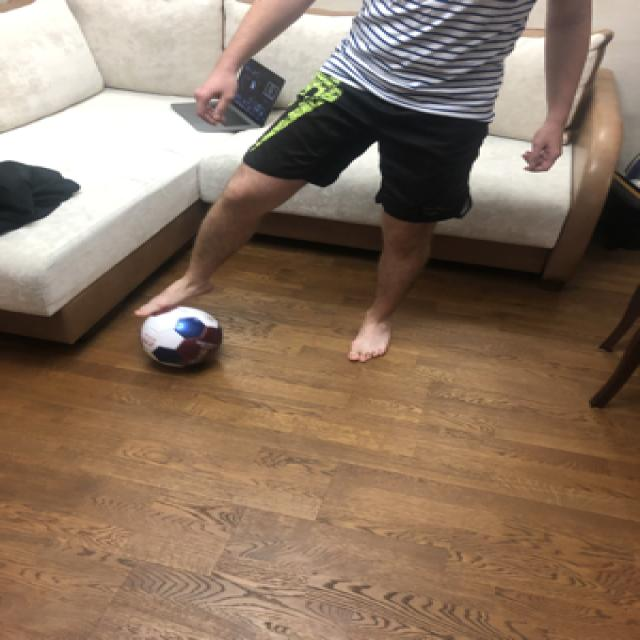soccer_ball: (137, 302, 224, 368)
